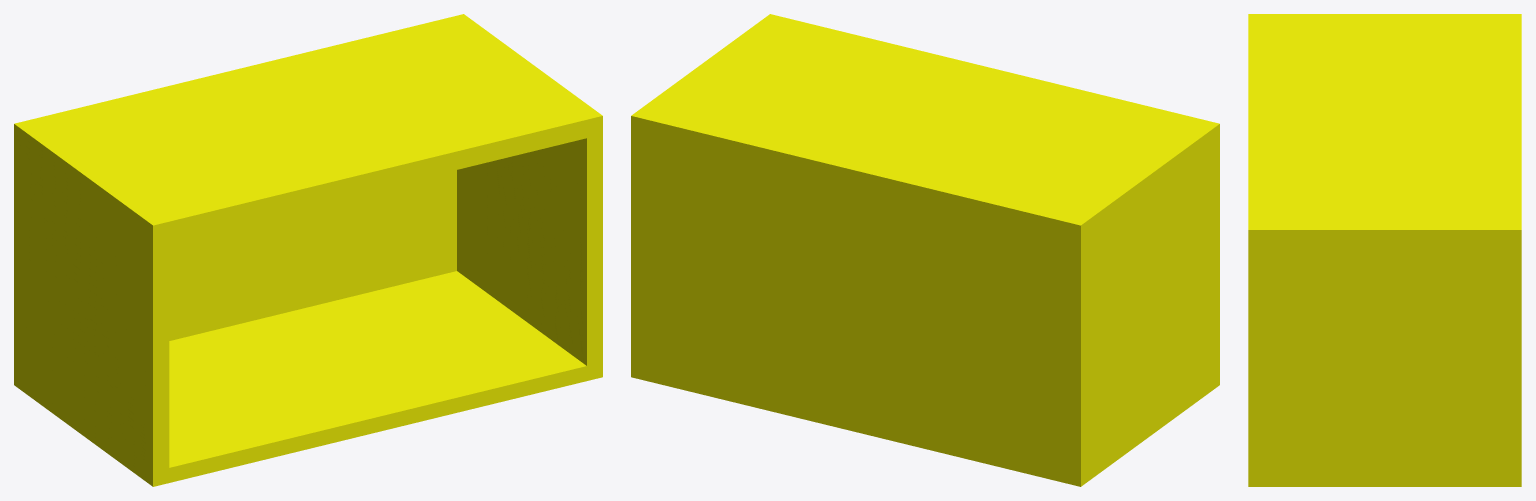
The model's file is original-8.obj.
3 views of the same model, side by side, from view 1: azimuth 30°, elevation 25°; view 2: azimuth 150°, elevation 25°; view 3: azimuth 270°, elevation 25° (orthographic).
Parts seen in each view (by area): view 1: Group5/mesh9/mesh9-geometry#mesh9-geometry; view 2: Group5/mesh9/mesh9-geometry#mesh9-geometry; view 3: Group5/mesh9/mesh9-geometry#mesh9-geometry.
Part boxes in pixels (box(x1,y1,x2,y2)): Group5/mesh9/mesh9-geometry#mesh9-geometry: box(14, 14, 602, 486); Group5/mesh9/mesh9-geometry#mesh9-geometry: box(631, 14, 1219, 486); Group5/mesh9/mesh9-geometry#mesh9-geometry: box(1248, 14, 1521, 486).
Bounding box in the file's own units: 1.47 × 0.819 × 0.7901.
